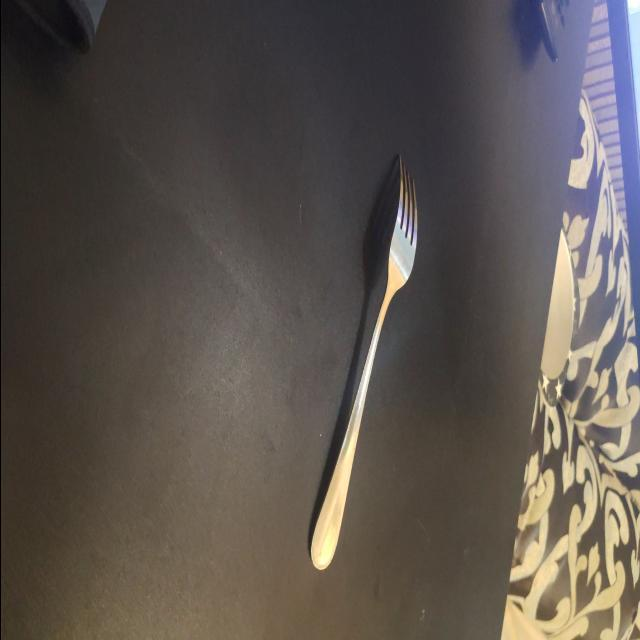plastic utensil: (310, 158, 416, 569)
